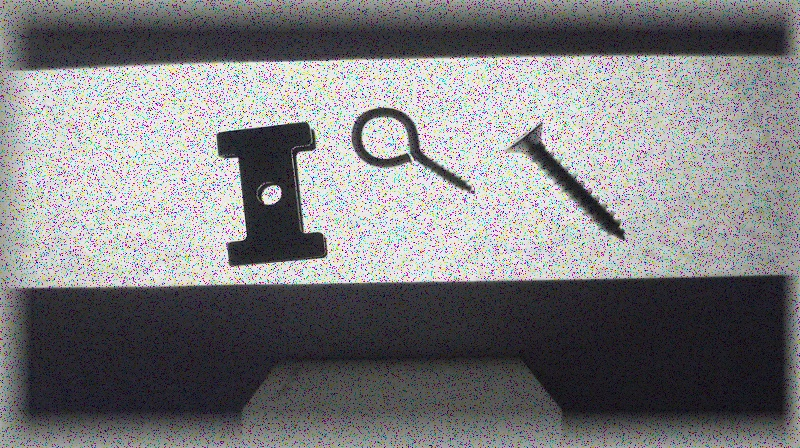O001: (350, 106, 477, 197)
O002: (212, 122, 329, 267)
S001: (504, 121, 627, 241)
